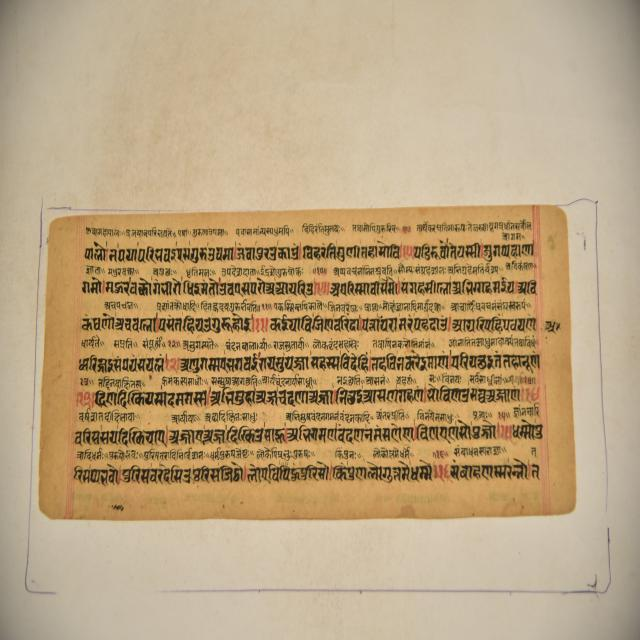text_paragraph: (41, 209, 577, 517)
